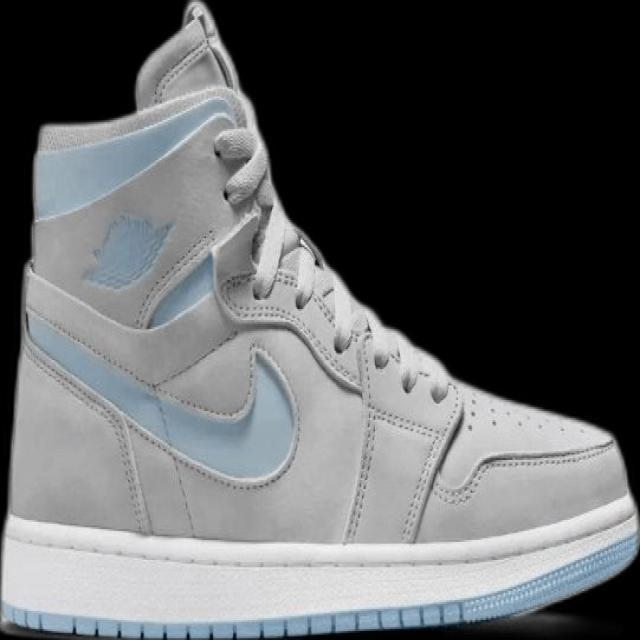J1_InsoleChar: (0, 0, 639, 639)
J1_ShoeLogo: (80, 211, 175, 290)
J1_StitchPattern: (21, 210, 619, 552), (133, 6, 461, 546), (1, 517, 638, 639), (221, 230, 463, 543), (20, 329, 155, 535), (339, 324, 463, 544), (218, 235, 365, 393), (433, 434, 618, 507), (397, 400, 465, 545), (340, 315, 379, 545)
